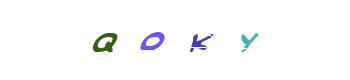K: (135, 0, 215, 80)
O: (131, 0, 211, 80)
Q: (65, 0, 145, 80)
Y: (167, 0, 247, 80)
